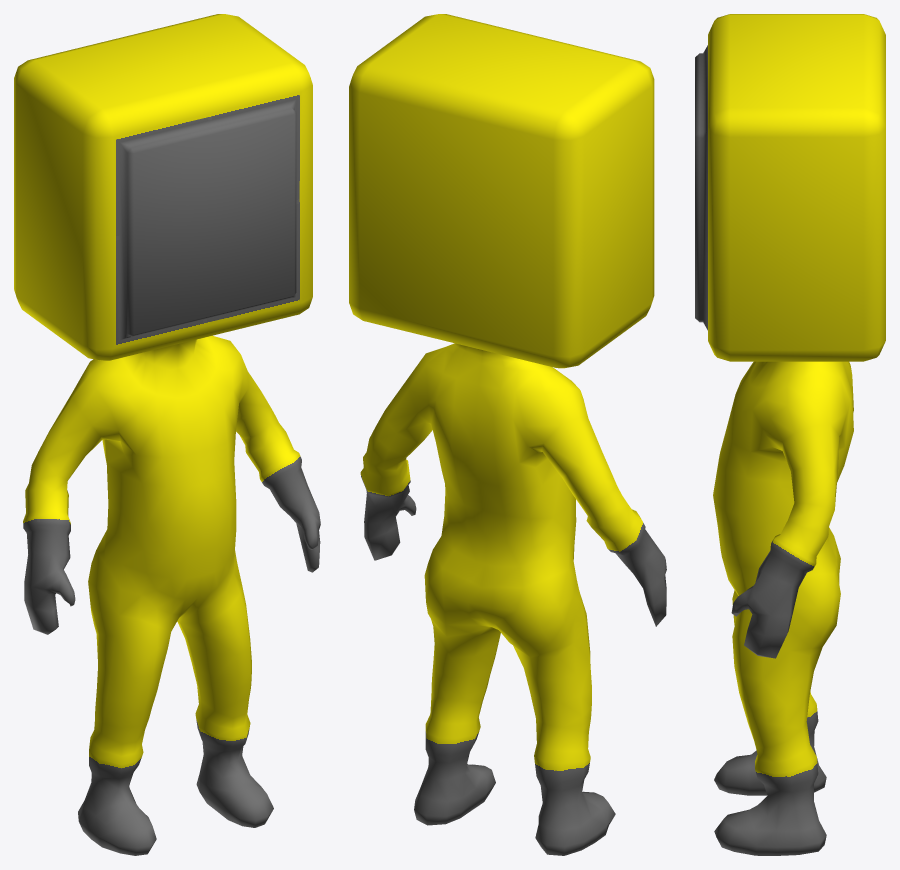
The model's file is WalterWhite_A_pose.fbx.
3 renders of one model, left to right at view 1: azimuth 30°, elevation 25°; view 2: azimuth 150°, elevation 25°; view 3: azimuth 270°, elevation 25°, orthographic. The views are drawn at different scales.
Parts seen in each view (by area): view 1: WalterWhite_A_pose; view 2: WalterWhite_A_pose; view 3: WalterWhite_A_pose.
Boxes of the visible parts, x1,y1,x2,y2 form: WalterWhite_A_pose: [14, 14, 320, 855]; WalterWhite_A_pose: [349, 14, 666, 855]; WalterWhite_A_pose: [695, 14, 885, 855].
Size of the model in its own units: 78.34 by 196 by 45.02.
